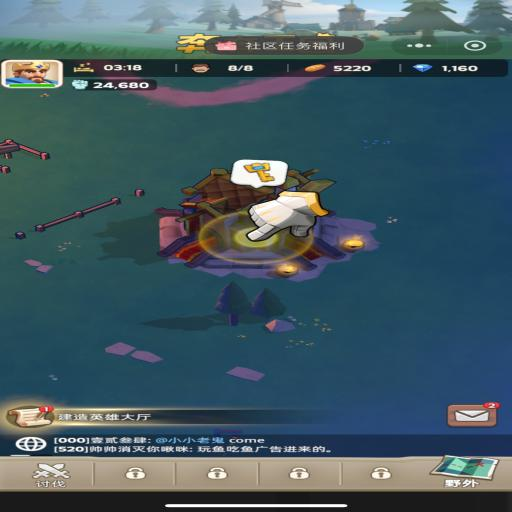newcomer_hand: (244, 190, 328, 241)
